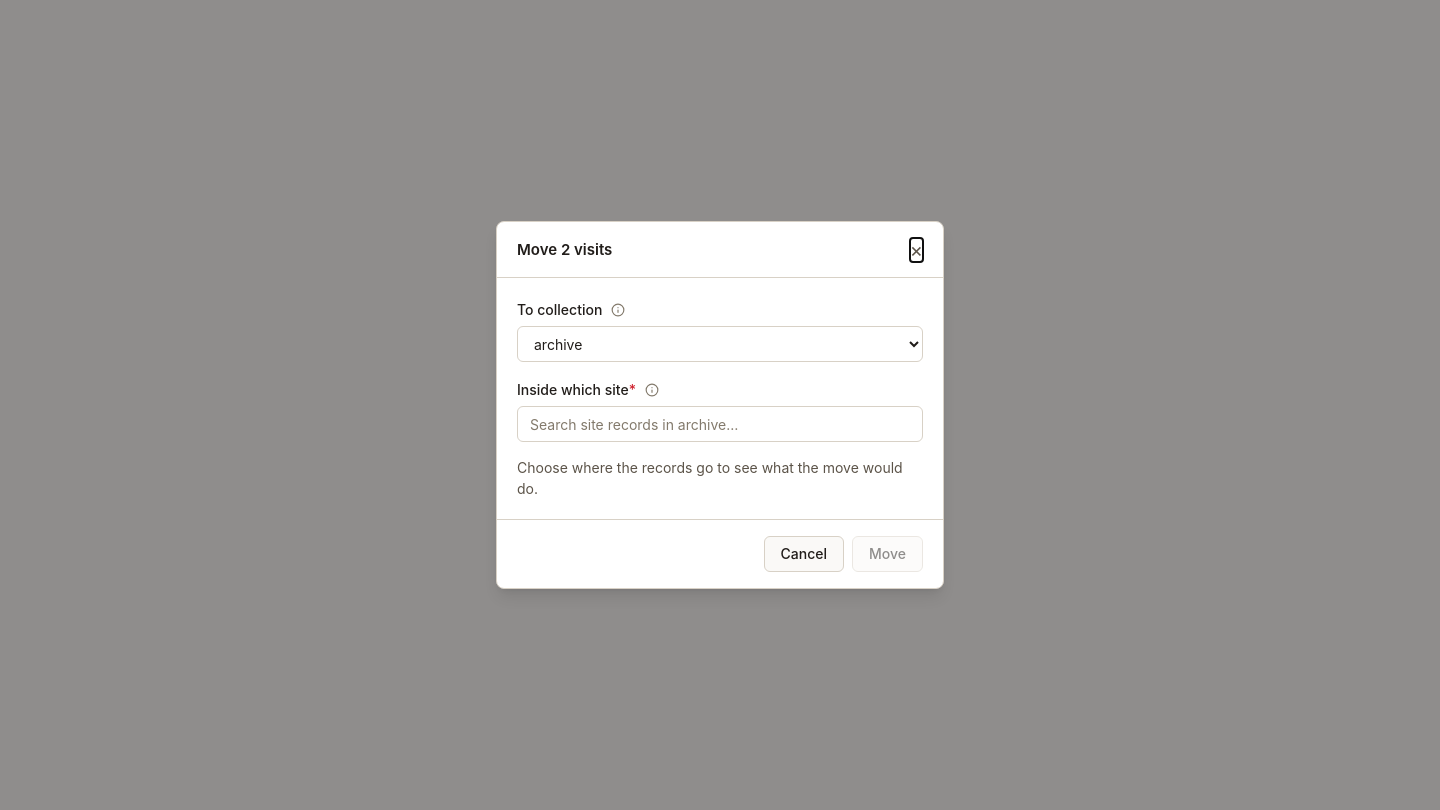
Test: MoveRecordsDialog › needs a record to go inside for a kind that nests
Expected: the text "Choose where the records go to see what the move would do." is shown, [517,458,923,499]
Expected: the dropdown labelled "To collection" shows "archive", [517,326,923,362]
Click the field labelled "Inside which site": (720, 424) [517,406,923,442]
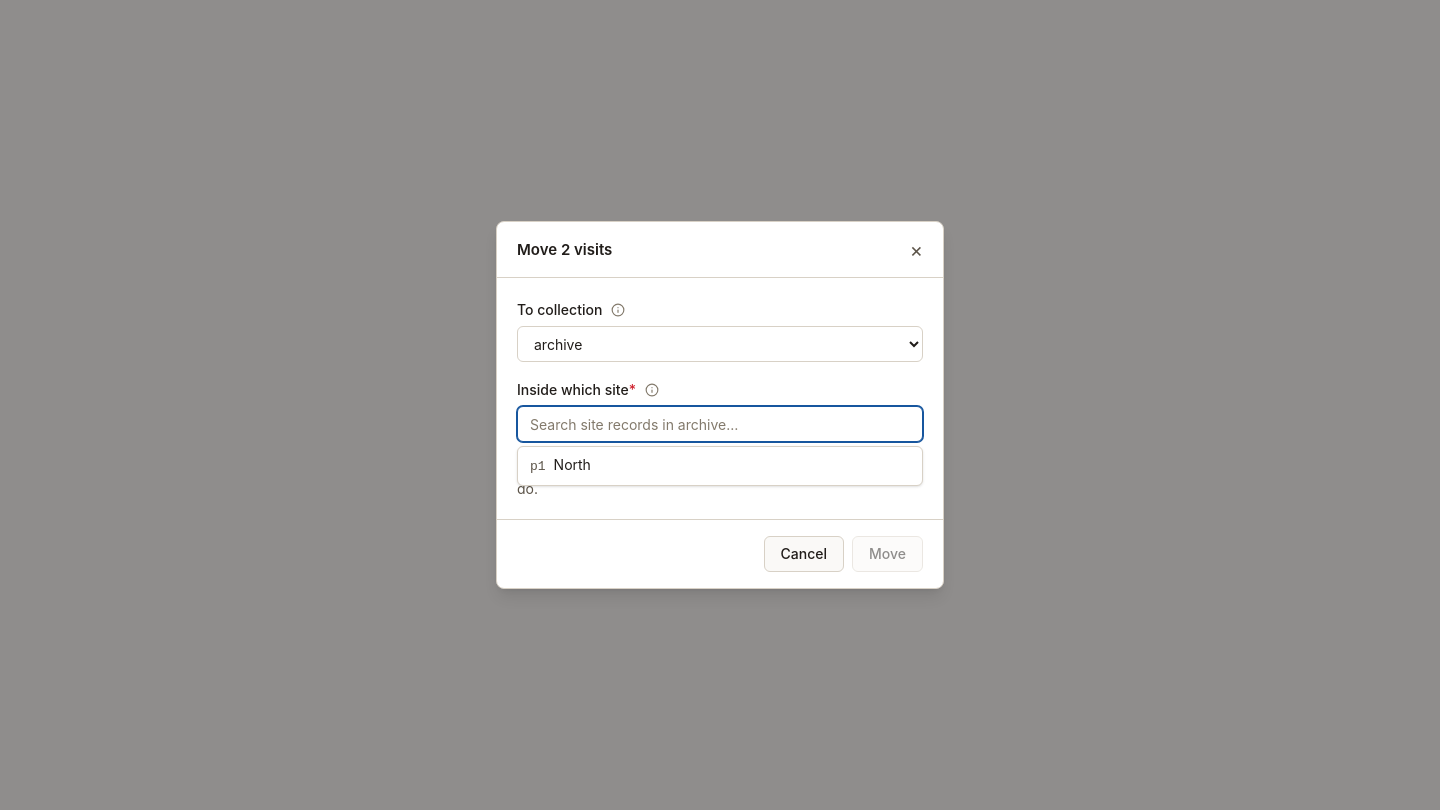
Click the text "North": (572, 465) [554,456,591,473]
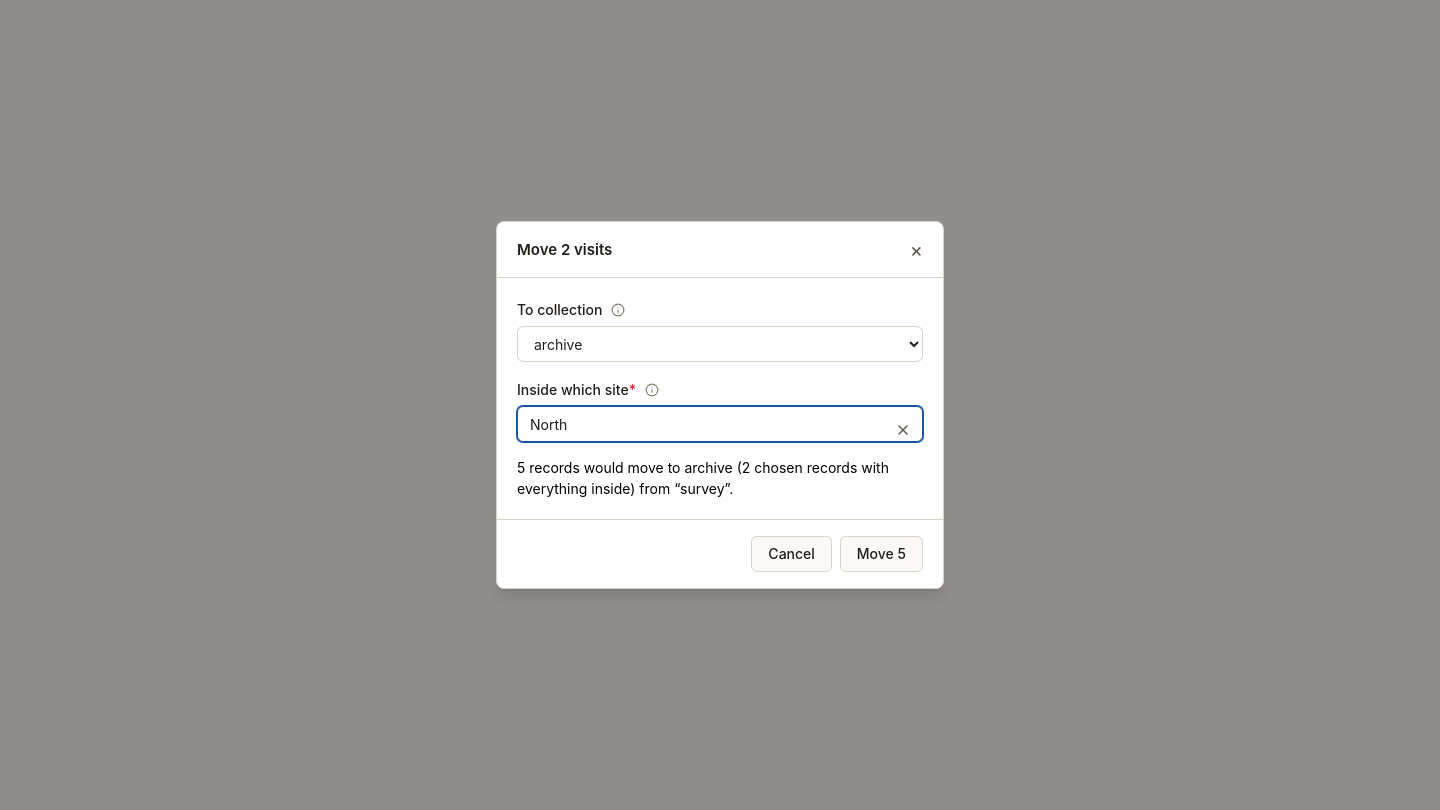
Expected: the text "would move to archive" is shown, [517,458,923,499]
